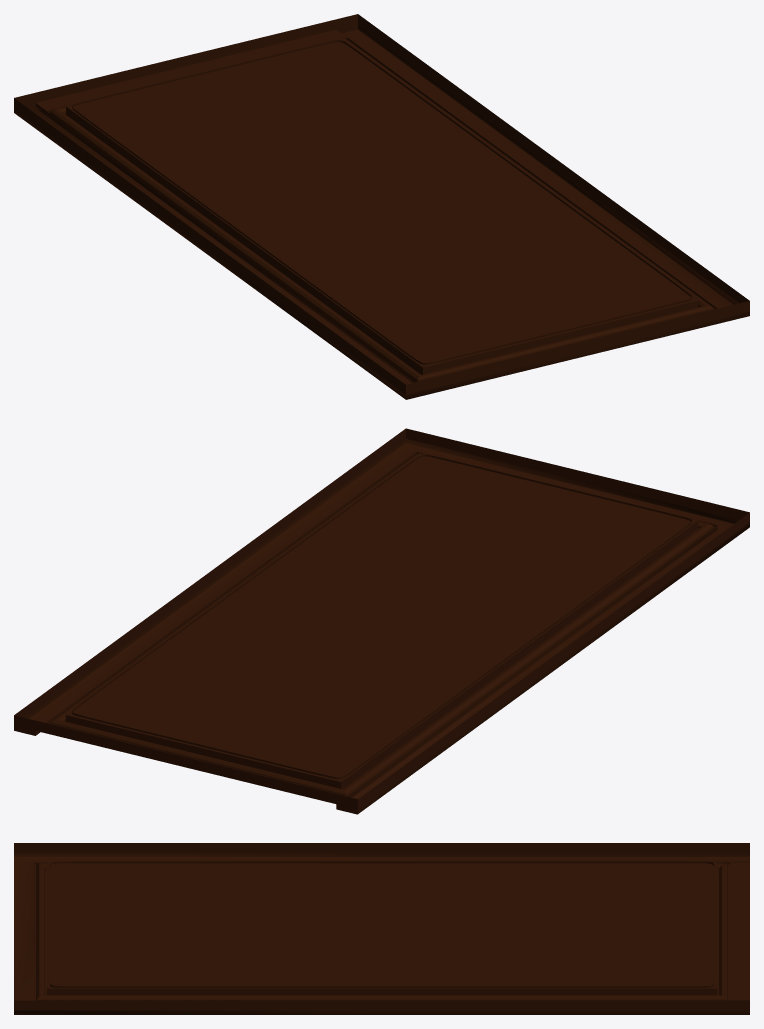
File: basement_door_v.fbx
3 renders of one model, top to bottom at view 1: azimuth 30°, elevation 25°; view 2: azimuth 150°, elevation 25°; view 3: azimuth 270°, elevation 25°, orthographic. The views are drawn at different scales.
Visible parts, largest first — view 1: kuang, men; view 2: kuang, men; view 3: kuang, men.
Boxes of the visible parts, x1,y1,x2,y2 form: kuang: (14, 14, 749, 399); men: (72, 40, 691, 364); kuang: (14, 428, 749, 814); men: (72, 454, 691, 779); kuang: (14, 843, 749, 1014); men: (49, 861, 714, 987).
Size of the model in its own units: 39.73 by 3.9 by 78.39.
